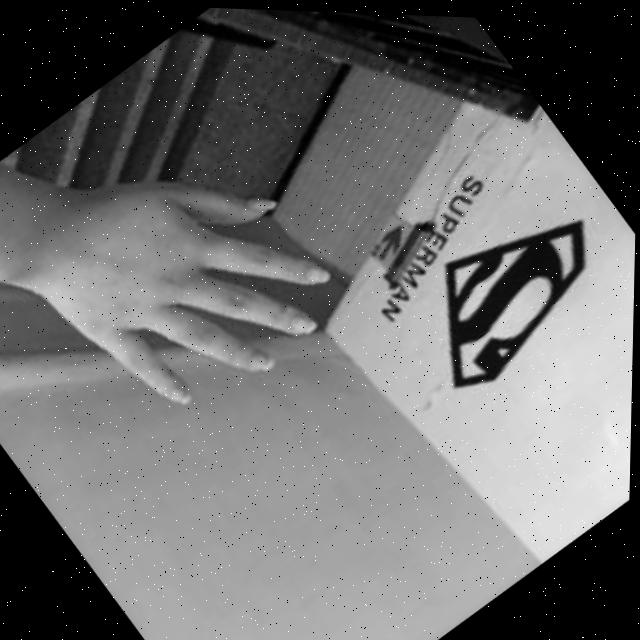hand: (0, 98, 364, 466)
